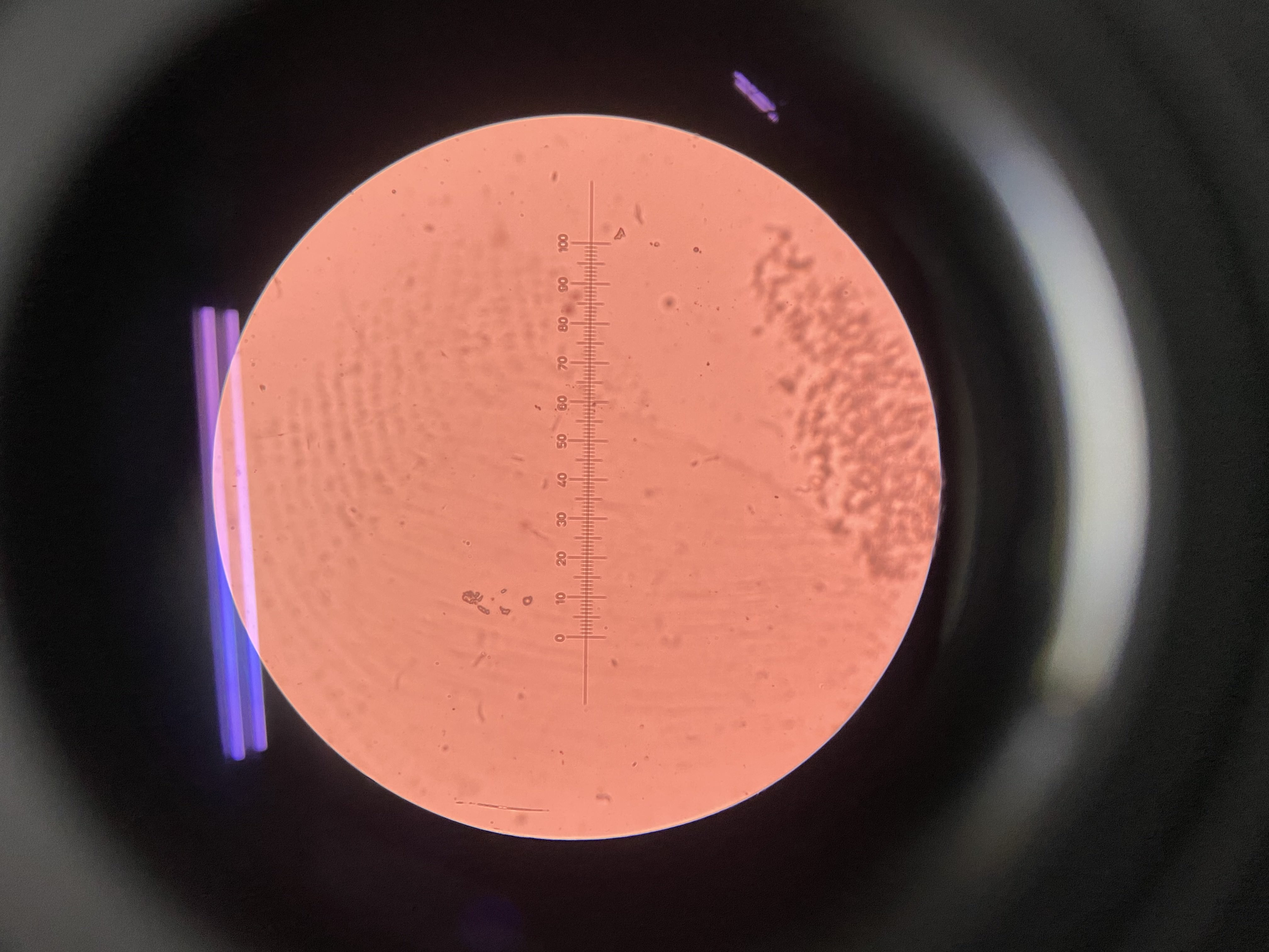not_microplastic: (752, 229, 949, 576), (462, 590, 489, 617), (614, 229, 630, 245), (499, 604, 513, 618), (664, 291, 677, 306), (519, 594, 535, 606)
